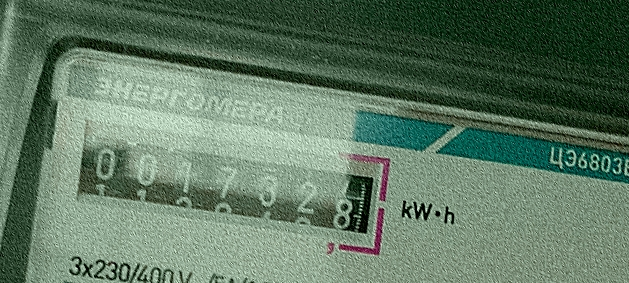0: (94, 142, 121, 182), (136, 150, 160, 186)
1: (178, 156, 197, 193)
2: (295, 177, 320, 216)
3: (256, 171, 283, 209)
7: (214, 161, 242, 201)
8: (331, 194, 355, 231)
screen: (65, 115, 398, 258)
